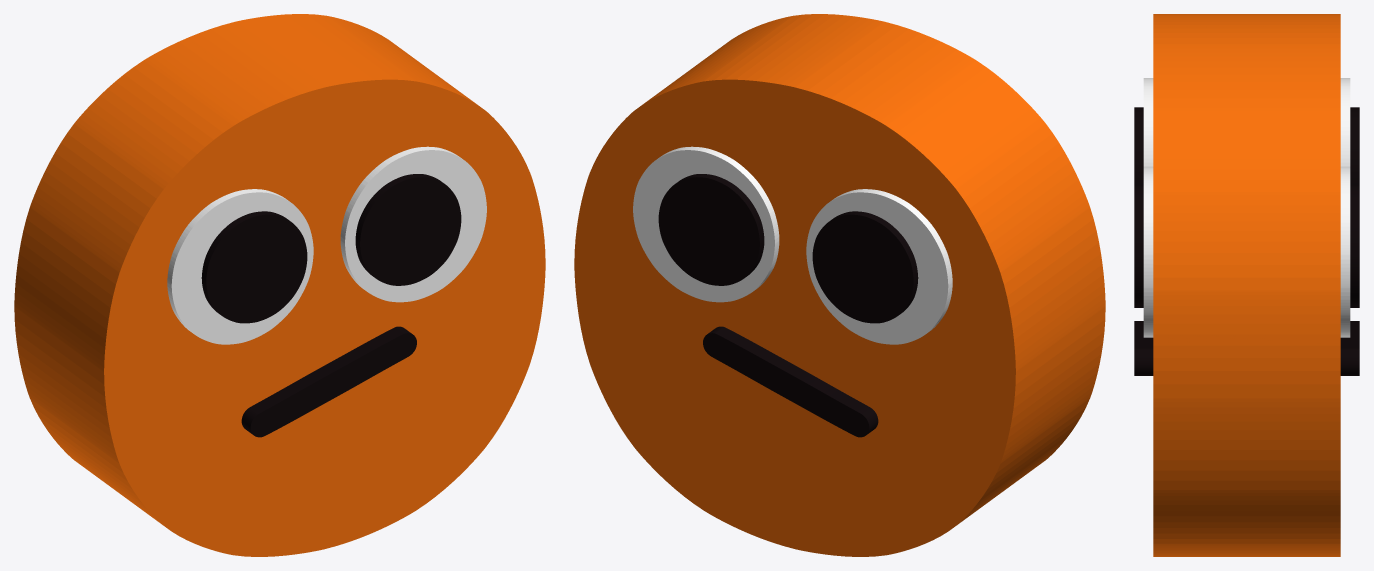
The model's file is U+1FAE4.obj.
3 views of the same model, side by side, from view 1: azimuth 30°, elevation 25°; view 2: azimuth 150°, elevation 25°; view 3: azimuth 270°, elevation 25° (orthographic). The views are drawn at different scales.
Visible parts, largest first — view 1: U+1FAE4_layer00_obj00, U+1FAE4_layer02_obj00, U+1FAE4_layer01_obj00; view 2: U+1FAE4_layer00_obj00, U+1FAE4_layer02_obj00, U+1FAE4_layer01_obj00; view 3: U+1FAE4_layer00_obj00, U+1FAE4_layer02_obj00, U+1FAE4_layer01_obj00.
Boxes of the visible parts, x1,y1,x2,y2 form: U+1FAE4_layer00_obj00: (14, 14, 545, 556); U+1FAE4_layer02_obj00: (201, 174, 461, 437); U+1FAE4_layer01_obj00: (167, 146, 486, 344); U+1FAE4_layer00_obj00: (574, 14, 1105, 556); U+1FAE4_layer02_obj00: (658, 174, 918, 437); U+1FAE4_layer01_obj00: (633, 146, 952, 344); U+1FAE4_layer00_obj00: (1153, 14, 1340, 556); U+1FAE4_layer02_obj00: (1134, 107, 1359, 375); U+1FAE4_layer01_obj00: (1143, 78, 1350, 337).
Size of the model in its own units: 0.5681 by 0.5677 by 0.24.
